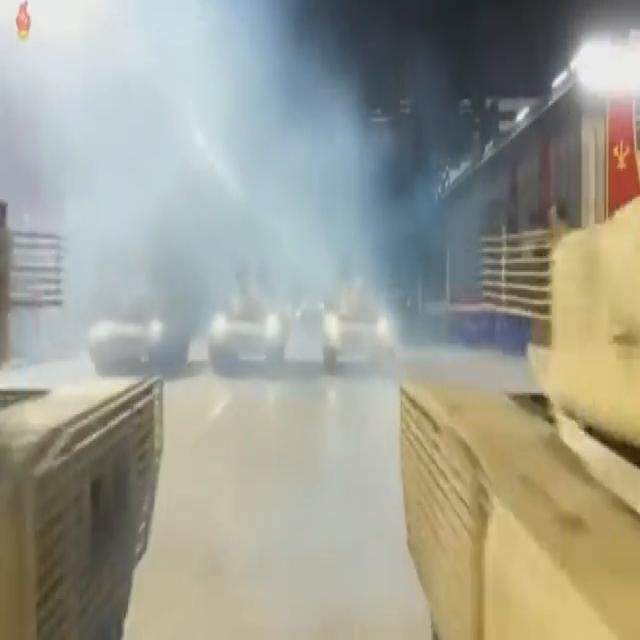north tank: (379, 137, 640, 640), (0, 197, 208, 640), (188, 251, 302, 405), (320, 260, 411, 411)
